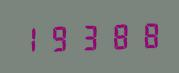eight: (102, 19, 129, 51), (130, 18, 157, 50)
nine: (46, 21, 73, 53)
one: (18, 22, 45, 54)
three: (74, 20, 101, 52)
